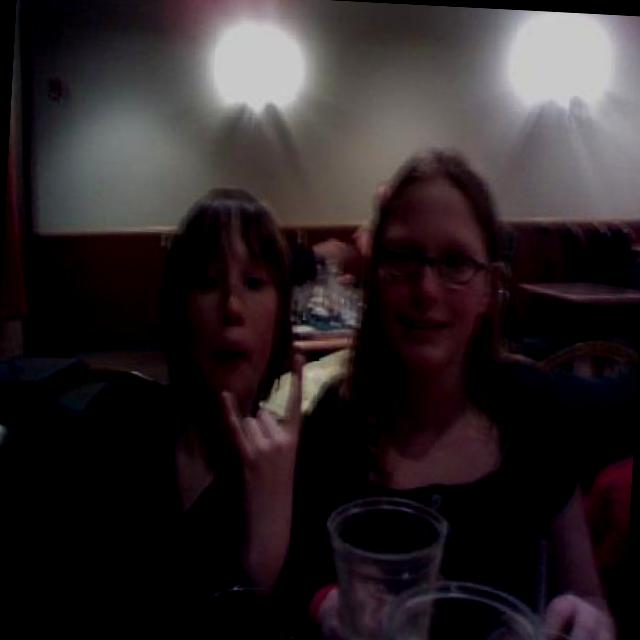Person: (287, 137, 640, 640), (38, 177, 332, 631)
